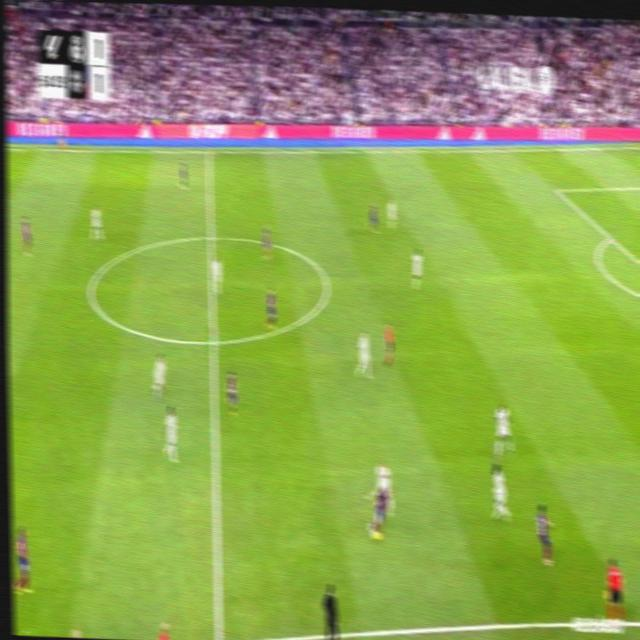bigarea_top_inner: (551, 182, 561, 196)
halfcircle_bottom: (206, 326, 219, 355)
halfcircle_top: (203, 223, 217, 248)
midline_bottom_intersection: (209, 624, 227, 640)
midline_top_intersection: (203, 143, 213, 159)
top_arc_area_intersection: (605, 228, 615, 245)
